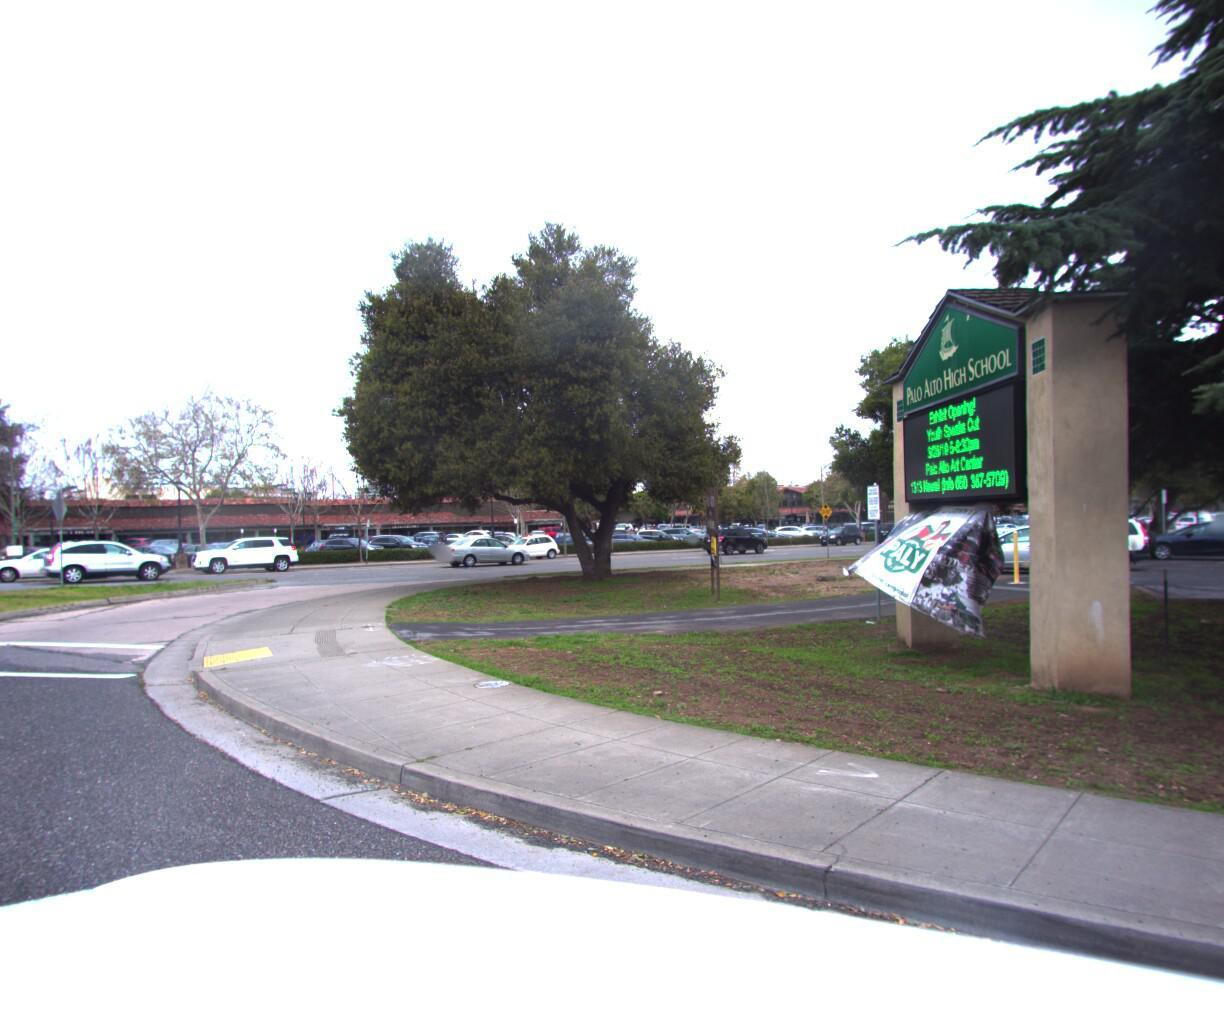car: (48, 536, 182, 586), (188, 531, 304, 575), (0, 542, 120, 584), (435, 534, 534, 568), (698, 524, 774, 555), (496, 532, 566, 560), (870, 519, 930, 545), (478, 530, 542, 553), (654, 523, 714, 547), (814, 525, 864, 546), (767, 522, 821, 539)
